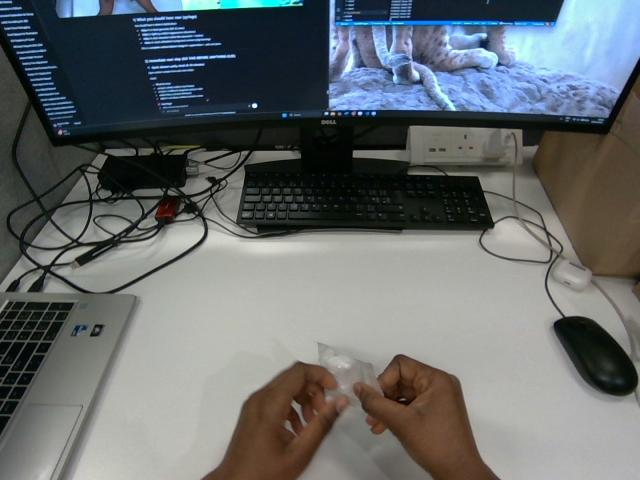gauze: (318, 342, 381, 404)
